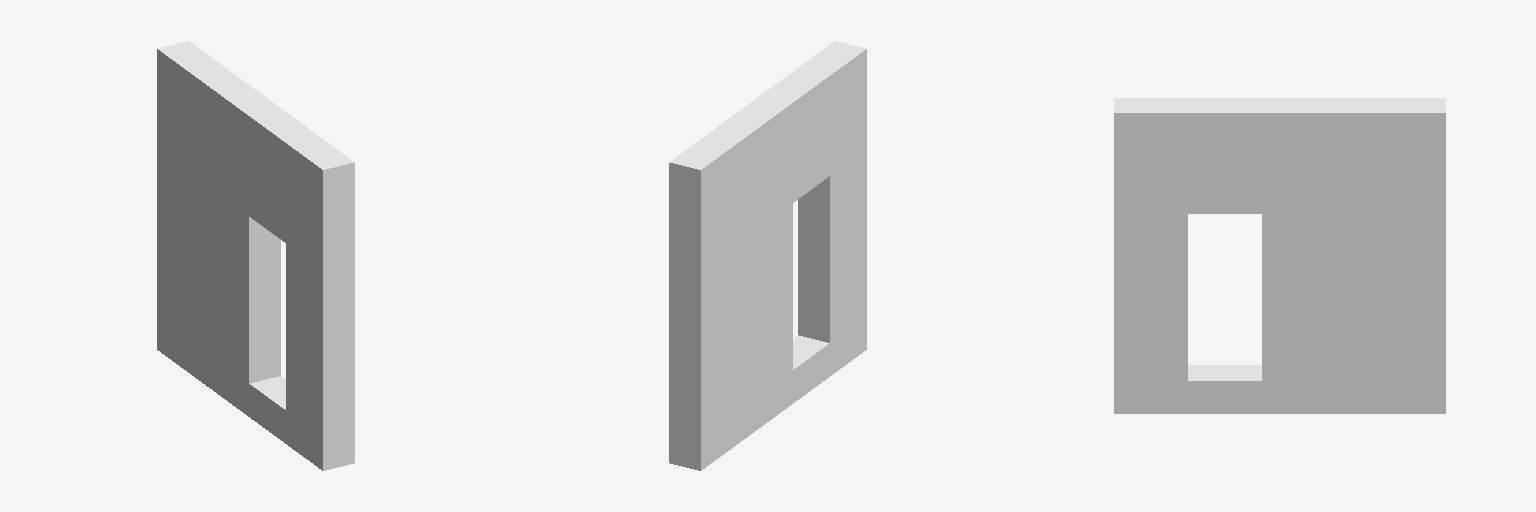
Rendered from doorway_piece.obj.
3 renders of one model, left to right at view 1: azimuth 30°, elevation 25°; view 2: azimuth 150°, elevation 25°; view 3: azimuth 270°, elevation 25°, orthographic.
Visible parts, largest first — view 1: doorway_piece; view 2: doorway_piece; view 3: doorway_piece.
Boxes of the visible parts, x1,y1,x2,y2 form: doorway_piece: [157, 41, 354, 470]; doorway_piece: [669, 41, 866, 470]; doorway_piece: [1114, 98, 1445, 413].
Bounding box in the file's own units: 1 × 9 × 9.